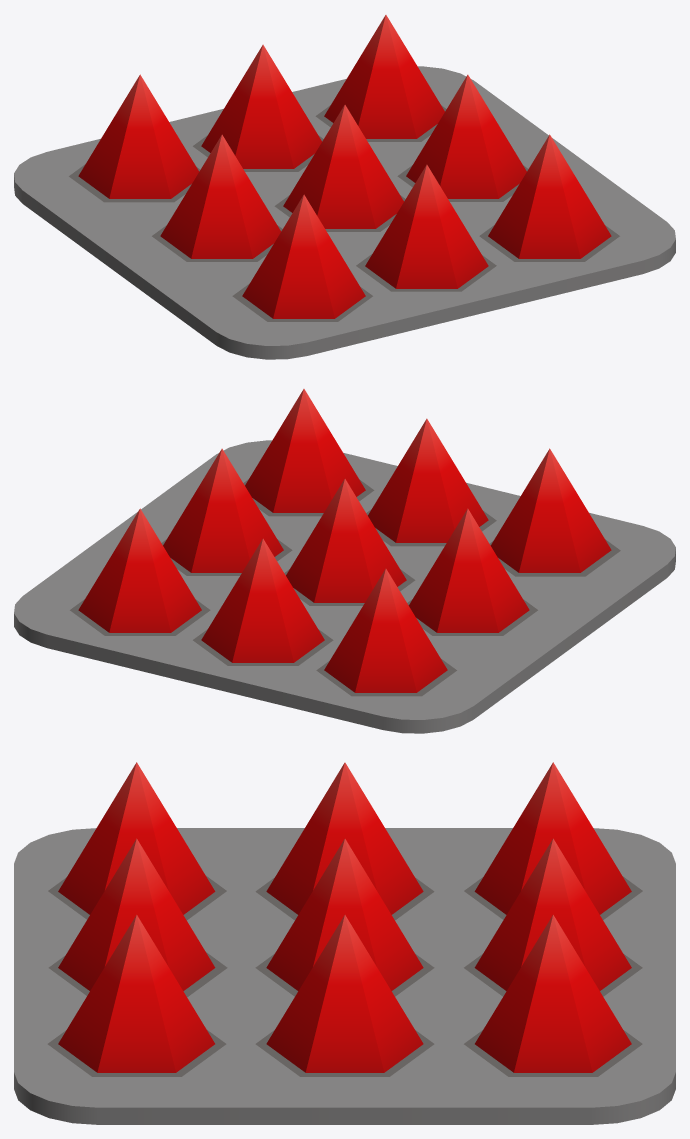
File: thorns.fbx
3 renders of one model, top to bottom at view 1: azimuth 30°, elevation 25°; view 2: azimuth 150°, elevation 25°; view 3: azimuth 270°, elevation 25°, orthographic. The views are drawn at different scales.
Visible parts, largest first — view 1: thorns, thorns.008, thorns.010, thorns.009, thorns.005, thorns.002, thorns.006, thorns.003, thorns.004, thorns.007; view 2: thorns, thorns.002, thorns.004, thorns.003, thorns.005, thorns.008, thorns.006, thorns.009, thorns.010, thorns.007; view 3: thorns, thorns.007, thorns.004, thorns.010, thorns.002, thorns.005, thorns.008, thorns.003, thorns.006, thorns.009.
Boxes of the visible parts, <box> form: thorns: <box>14,66,675,359</box>; thorns.008: <box>242,194,365,318</box>; thorns.010: <box>488,134,611,258</box>; thorns.009: <box>365,164,488,288</box>; thorns.005: <box>160,134,281,258</box>; thorns.002: <box>78,74,199,198</box>; thorns.006: <box>283,105,403,228</box>; thorns.003: <box>201,44,321,168</box>; thorns.004: <box>324,15,444,138</box>; thorns.007: <box>406,74,526,198</box>; thorns: <box>14,440,675,733</box>; thorns.002: <box>324,568,447,692</box>; thorns.004: <box>78,508,201,632</box>; thorns.003: <box>201,538,324,662</box>; thorns.005: <box>408,508,529,632</box>; thorns.008: <box>490,448,611,572</box>; thorns.006: <box>286,479,406,602</box>; thorns.009: <box>368,418,488,542</box>; thorns.010: <box>245,389,365,512</box>; thorns.007: <box>163,448,283,572</box>; thorns: <box>14,828,675,1124</box>; thorns.007: <box>266,915,423,1072</box>; thorns.004: <box>475,915,631,1072</box>; thorns.010: <box>58,915,214,1072</box>; thorns.002: <box>474,762,631,914</box>; thorns.005: <box>266,762,423,914</box>; thorns.008: <box>58,762,215,914</box>; thorns.003: <box>474,838,631,990</box>; thorns.006: <box>266,839,423,990</box>; thorns.009: <box>58,838,215,990</box>.
Size of the model in its own units: 200 by 48.96 by 200.
1 material, 1 textured.
